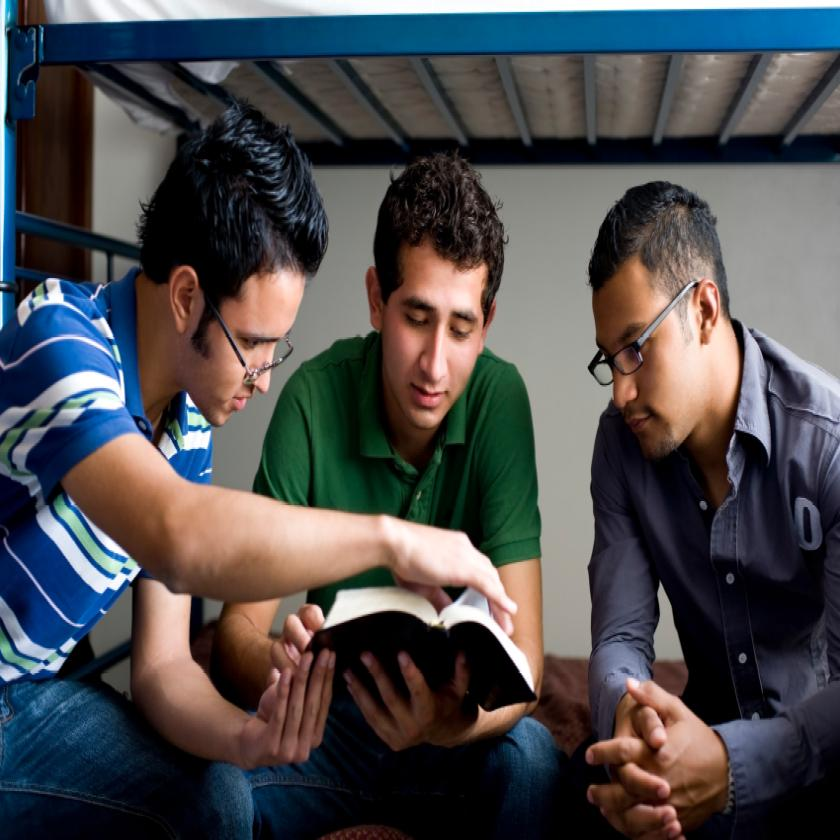Sin_casco: (132, 79, 340, 449), (581, 181, 739, 467), (359, 139, 510, 424)
